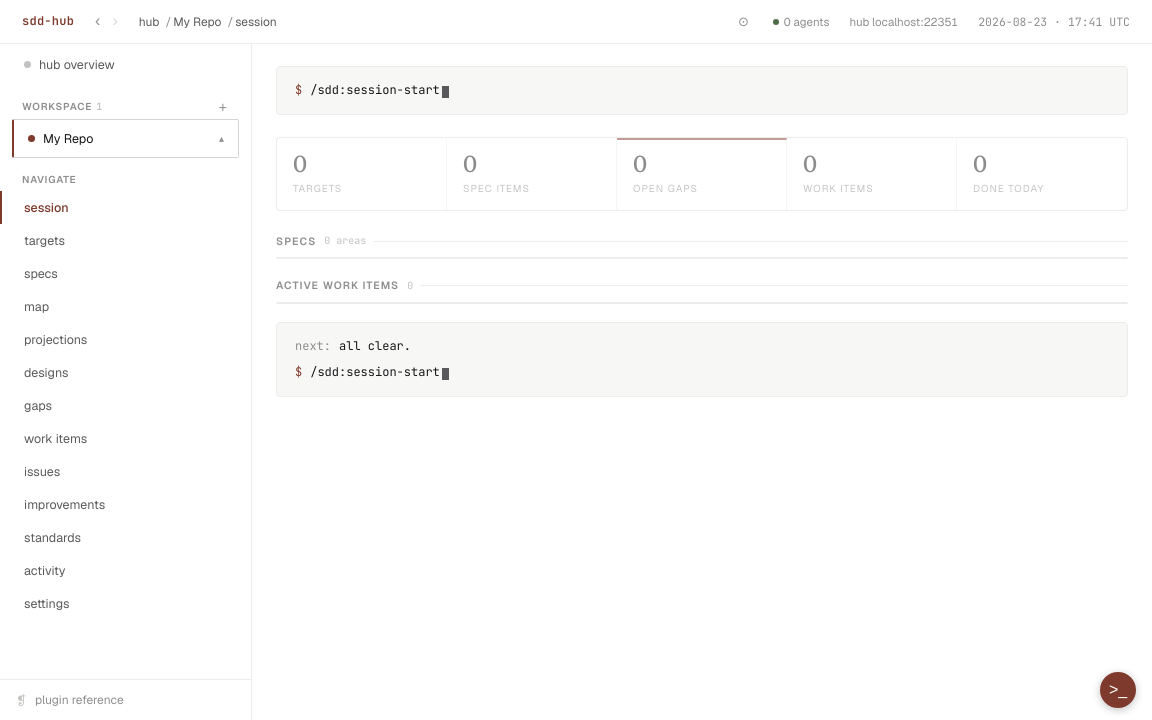
it: Empty state prompt vs Dashboard (WI-ui-012) › shows Dashboard tile grid when workspaces has items but no workspace is active
The width and height of the screenshot is (1152, 720).
Click the button with class "sidenav-hub-row": (126, 64) top-left (0, 44), bottom-right (251, 85)
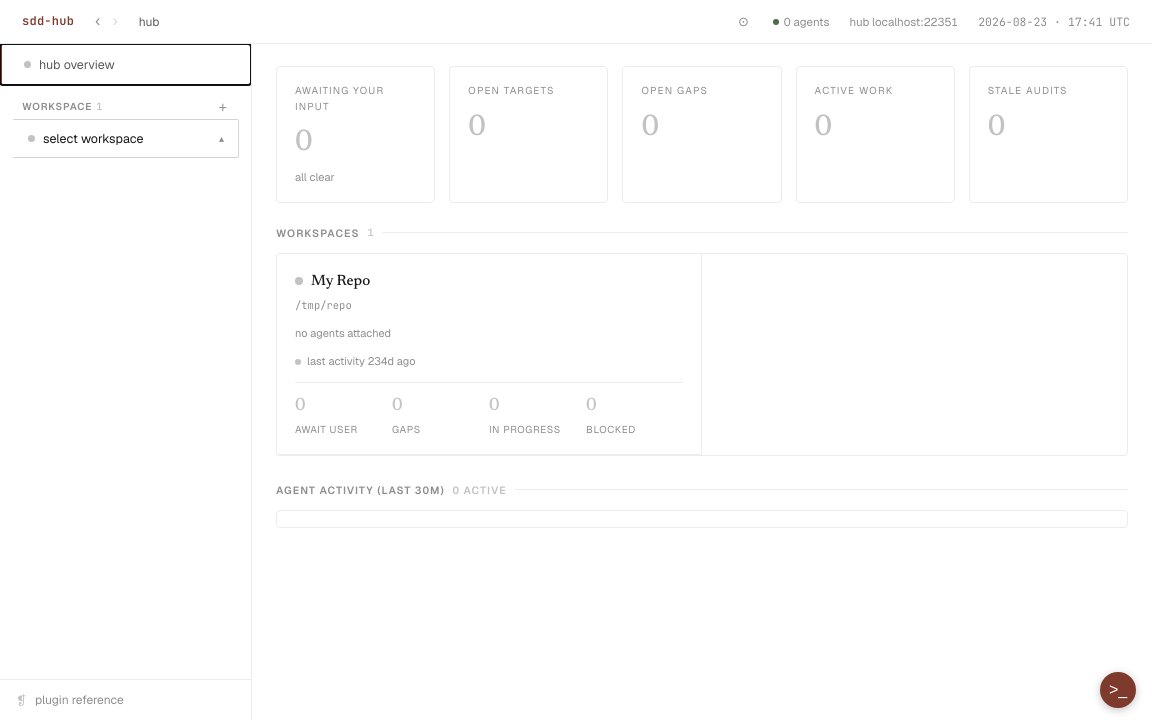
Now the element with class "dashboard" is shown, box top-left (252, 44), bottom-right (1151, 550)
